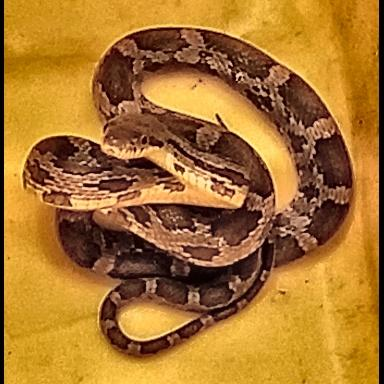snake: (22, 27, 355, 358)
